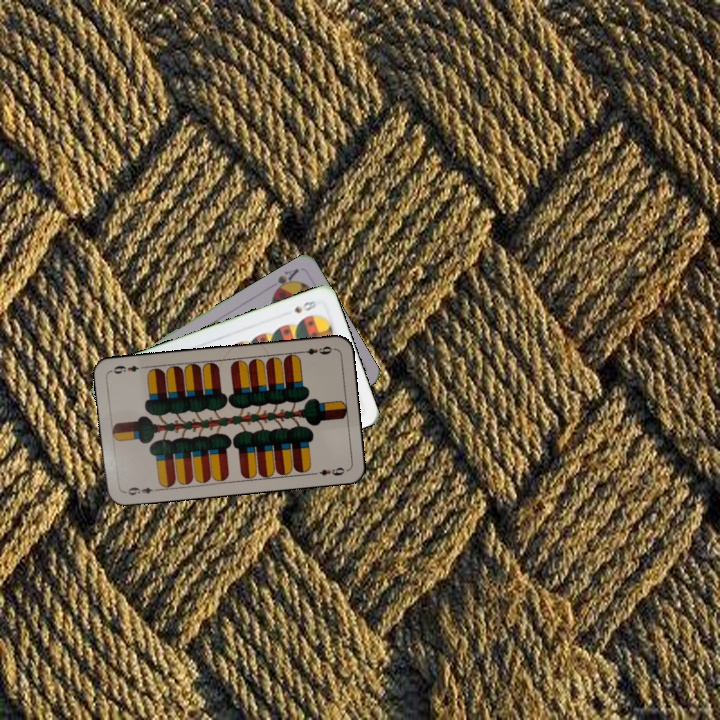E9: (120, 483, 161, 498), (296, 342, 336, 357)
S8: (290, 296, 319, 315)
SA: (269, 265, 302, 297)
